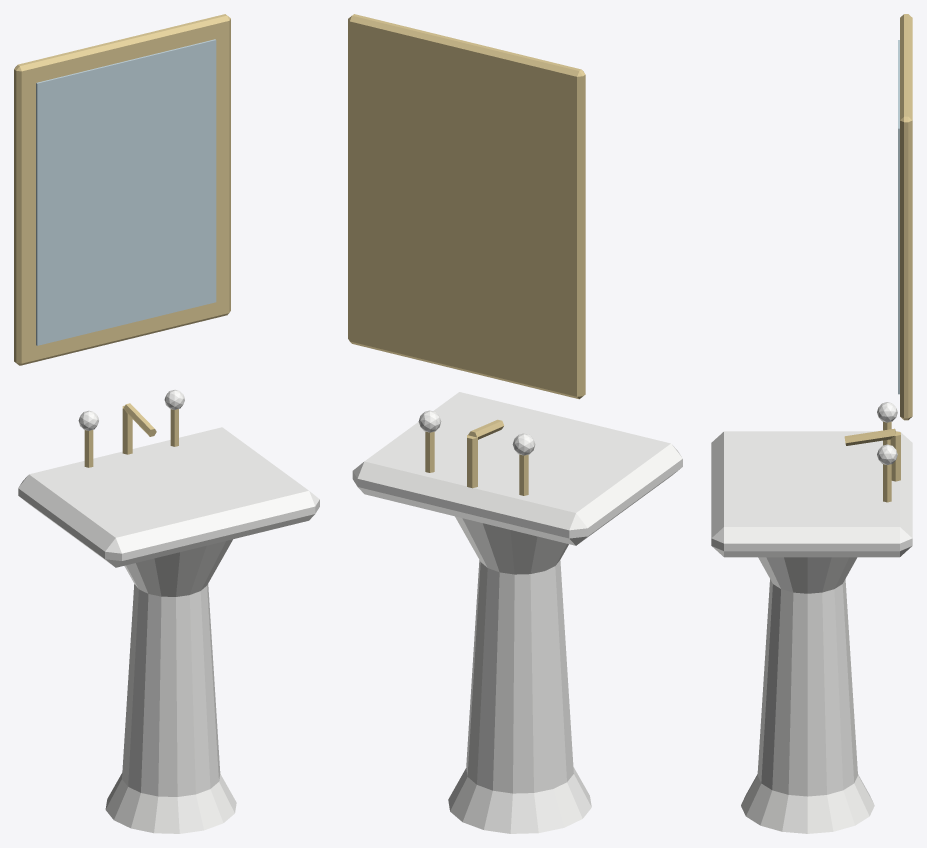
File: pedestal_sink.glb
3 views of the same model, side by side, from view 1: azimuth 30°, elevation 25°; view 2: azimuth 150°, elevation 25°; view 3: azimuth 270°, elevation 25° (orthographic). The views are drawn at different scales.
Visible parts, largest first — view 1: pedestal_sink_porcelain, pedestal_sink_glass, pedestal_sink_brass; view 2: pedestal_sink_brass, pedestal_sink_porcelain; view 3: pedestal_sink_porcelain, pedestal_sink_brass, pedestal_sink_glass.
Part boxes in pixels (left/top/right/bottom): pedestal_sink_porcelain: left=18, top=389, right=319, bottom=833; pedestal_sink_glass: left=36, top=39, right=216, bottom=345; pedestal_sink_brass: left=14, top=14, right=230, bottom=467; pedestal_sink_brass: left=348, top=14, right=585, bottom=495; pedestal_sink_porcelain: left=352, top=392, right=682, bottom=833; pedestal_sink_porcelain: left=711, top=402, right=912, bottom=833; pedestal_sink_brass: left=844, top=14, right=912, bottom=502; pedestal_sink_glass: left=898, top=40, right=899, bottom=394.
Size of the model in its own units: 0.6 by 1.95 by 0.48.
